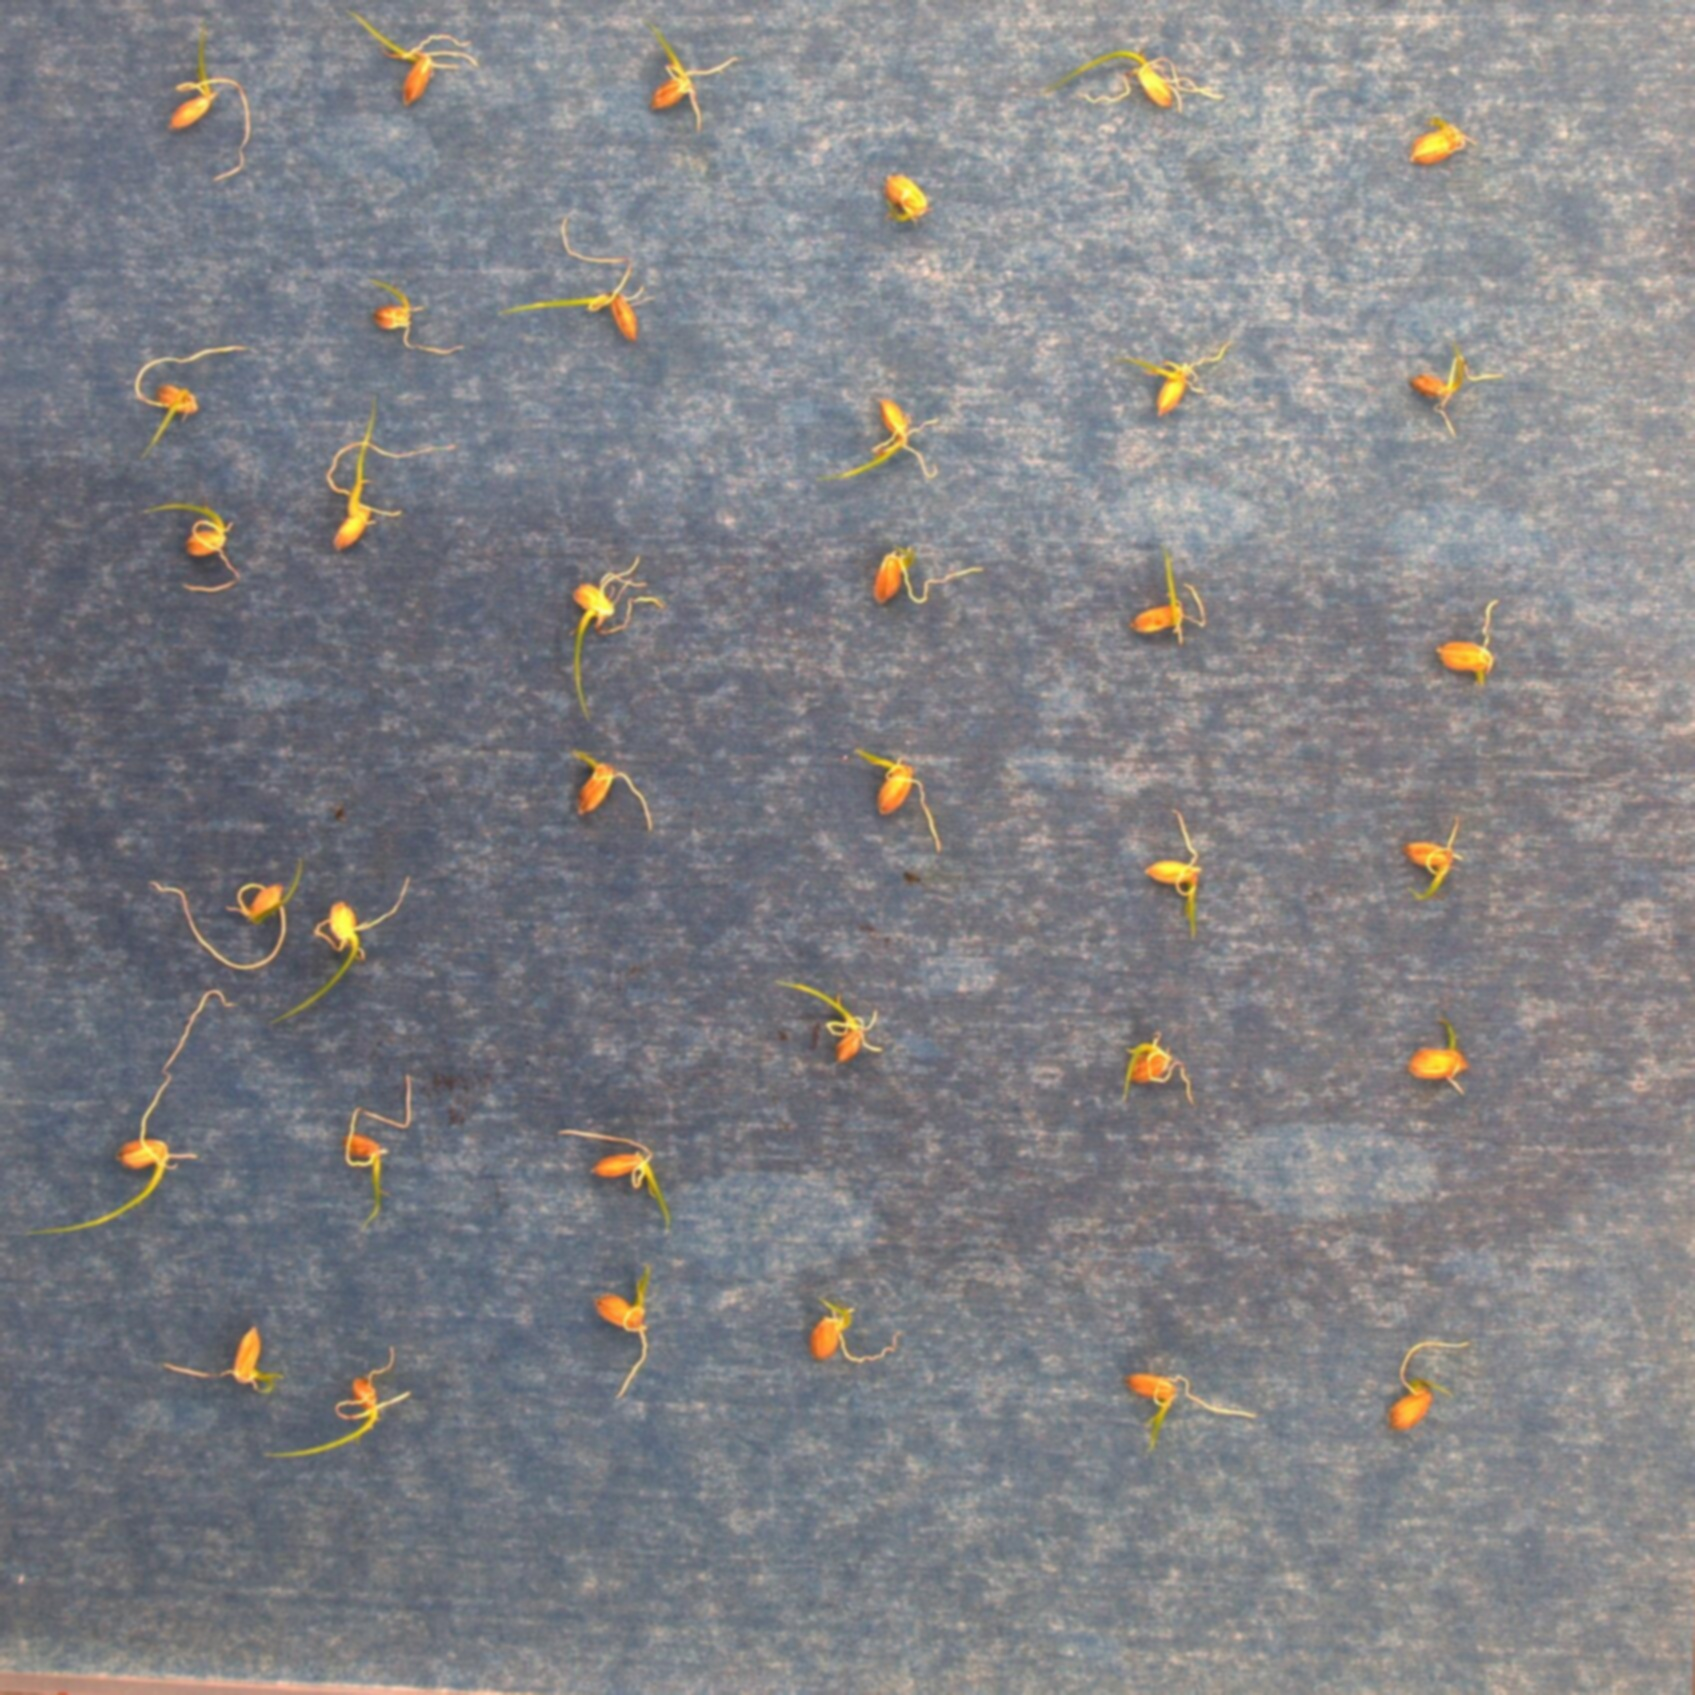not sprout: (866, 545, 979, 612), (1389, 1343, 1464, 1433), (1437, 598, 1498, 692), (1412, 109, 1475, 168), (879, 168, 928, 217)
sprout: (23, 987, 237, 1242), (154, 851, 304, 970), (324, 411, 456, 546), (501, 217, 647, 338), (282, 877, 407, 1018), (267, 1343, 410, 1462), (567, 559, 672, 719), (553, 1121, 677, 1236), (129, 346, 255, 449), (171, 26, 247, 186), (343, 16, 481, 102), (343, 1079, 413, 1239), (1057, 47, 1223, 113), (646, 16, 739, 132), (161, 1315, 293, 1395), (1132, 1367, 1262, 1448), (851, 733, 939, 851), (140, 498, 250, 593), (1130, 331, 1237, 418), (560, 739, 661, 830), (363, 275, 469, 362), (1406, 346, 1498, 439), (779, 976, 879, 1062), (837, 393, 931, 481), (581, 1270, 647, 1394), (806, 1295, 903, 1374), (1149, 799, 1201, 945), (1136, 545, 1208, 646), (1406, 1007, 1475, 1101), (1119, 1031, 1191, 1113), (1402, 820, 1462, 902)
